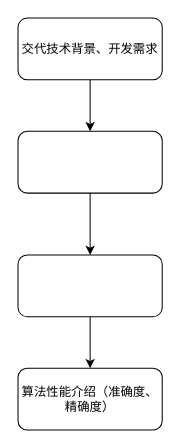
The diagram is 180 pixels wide and 448 high, and some of its shapes have lost their labels. The centre of each missing label's shape, as x and y in pixels:
分布检测算法介绍: (x=89, y=285)
比较传统检测、单分割检测、单pose识别: (x=89, y=161)
